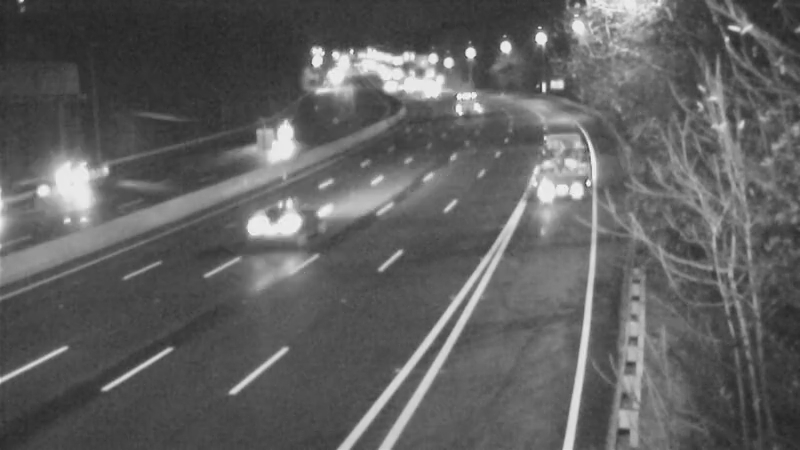vehicle: (526, 115, 606, 195), (224, 185, 304, 265), (31, 138, 111, 218), (1, 162, 64, 242), (445, 73, 495, 123), (255, 111, 305, 161)
